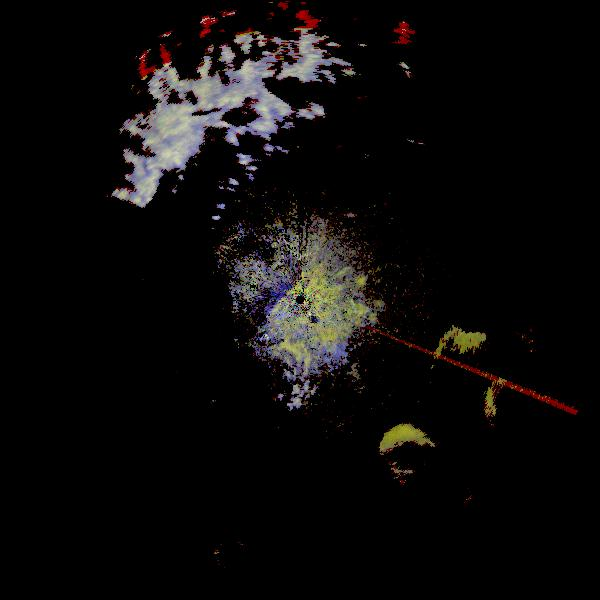roost: (405, 281, 585, 461), (457, 328, 600, 499), (447, 459, 561, 573), (370, 404, 478, 512)
